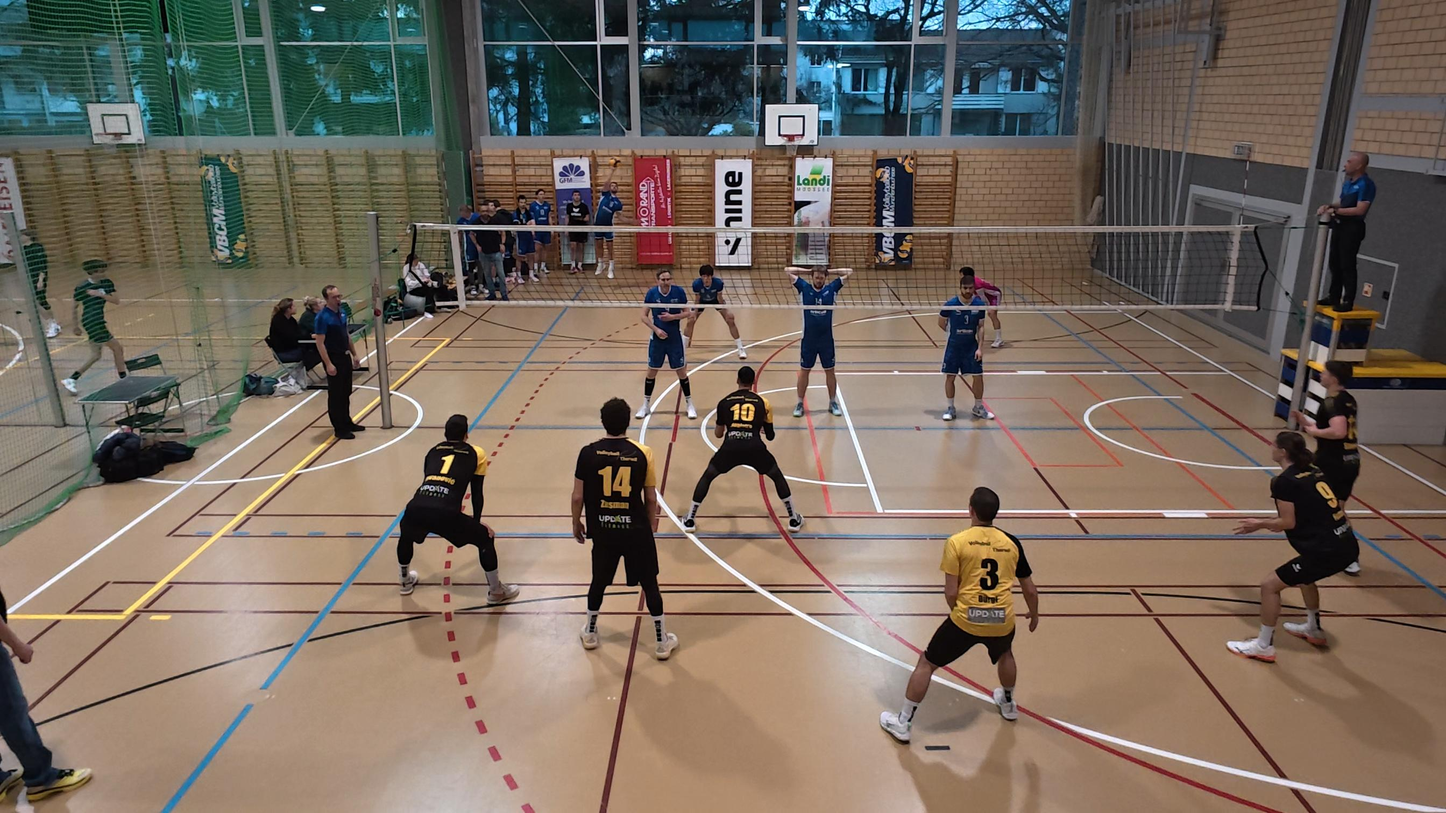battuta: (586, 159, 626, 279)
